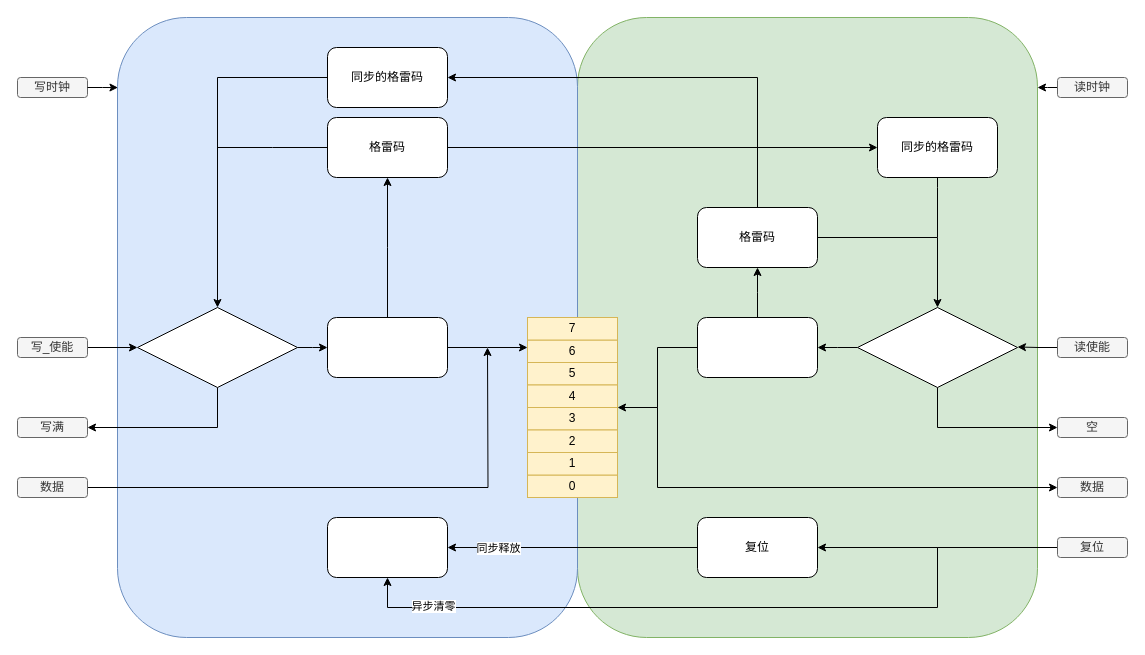
The diagram is 1145 pixels wide and 655 high, and some of its shapes have lost their labels. The centre of each missing label's shape, as x and y in pixels:
"写指针+1" belongs at [387,347].
"写满了？" belongs at [217,347].
"同步的复位信号" belongs at [387,547].
"空 ？" belongs at [937,347].
"读指针+1" belongs at [757,347].
